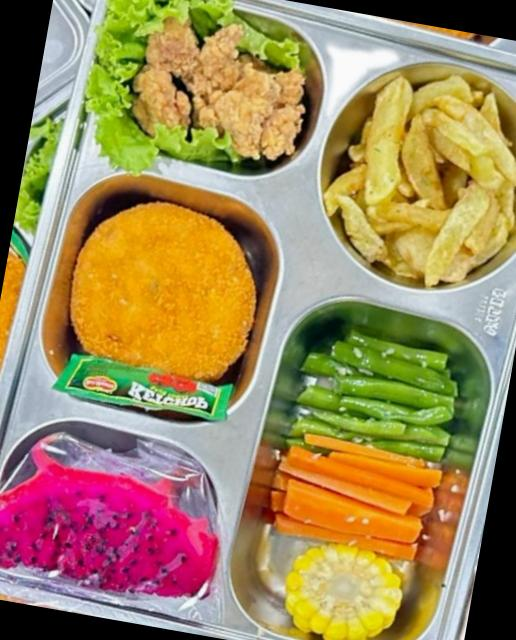ayam: (131, 18, 304, 160)
buah: (0, 432, 221, 620)
kentang: (323, 76, 515, 287)
roti: (69, 202, 255, 381)
sayur: (275, 330, 457, 639)
